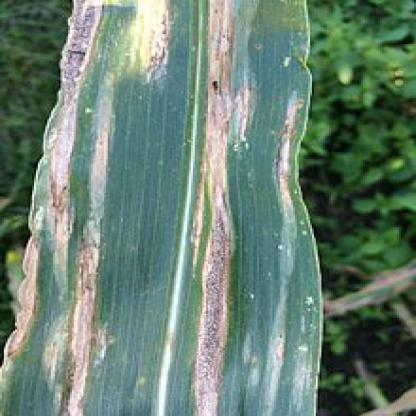Corn leaf blight: (13, 1, 333, 414)
